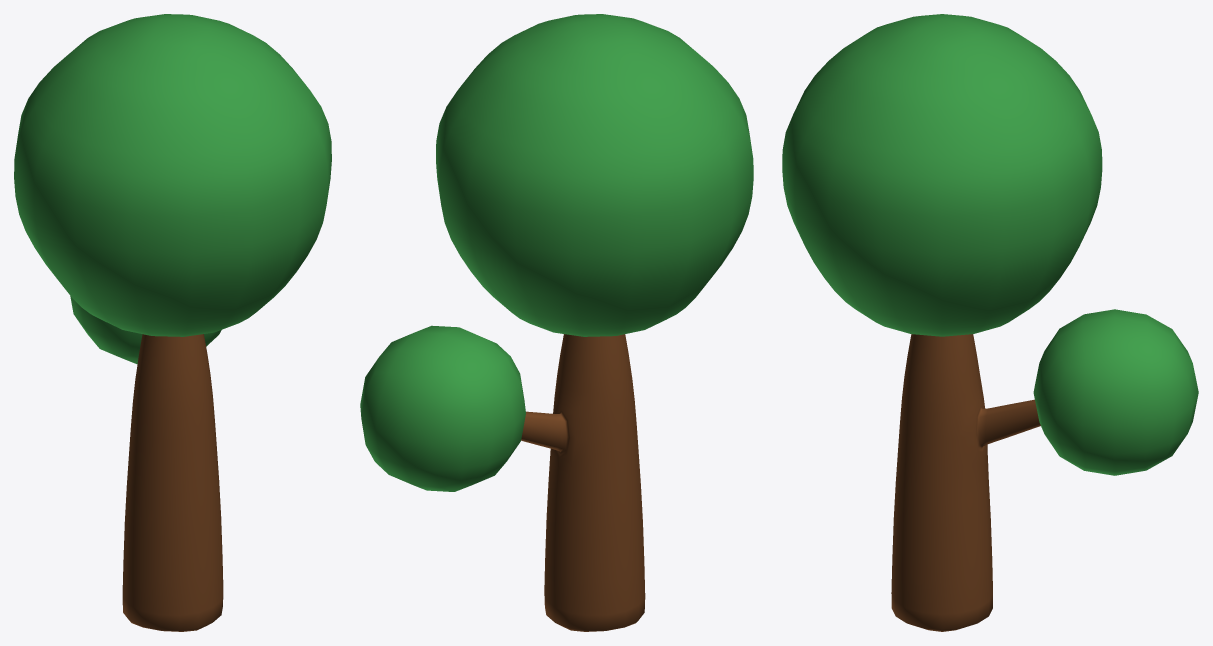
The model's file is LowPolyTree.fbx.
The picture shows the model from 3 angles, left to right: view 1: azimuth 30°, elevation 25°; view 2: azimuth 150°, elevation 25°; view 3: azimuth 270°, elevation 25°; orthographic projection.
Parts seen in each view (by area): view 1: Cylinder, Cube; view 2: Cylinder, Cube; view 3: Cylinder, Cube.
Boxes of the visible parts, x1,y1,x2,y2 form: Cylinder: (14,14,331,631); Cube: (70,296,221,364); Cylinder: (436,14,753,631); Cube: (360,325,525,491); Cylinder: (782,14,1102,631); Cube: (1033,309,1198,475).
Size of the model in its own units: 205 by 414 by 267.
